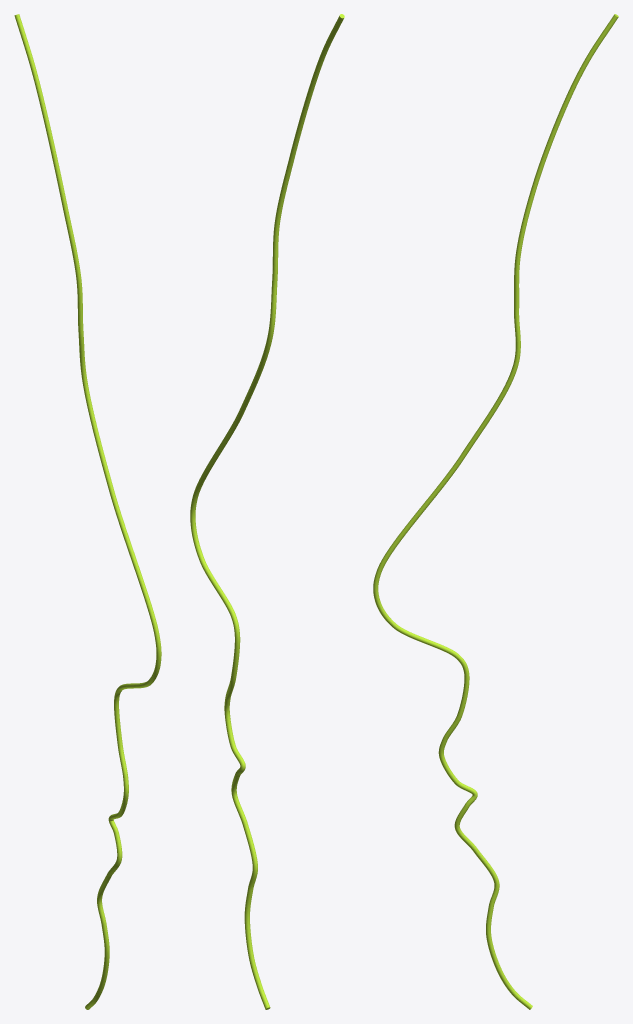
File: faces22 - lineprofile.glb
The picture shows the model from 3 angles, left to right: view 1: azimuth 30°, elevation 25°; view 2: azimuth 210°, elevation 25°; view 3: azimuth 270°, elevation 25°; orthographic projection. The views are drawn at different scales.
Parts seen in each view (by area): view 1: Tube; view 2: Tube; view 3: Tube.
Part boxes in pixels (<box>): Tube: <box>14,14,161,1009</box>; Tube: <box>190,14,344,1009</box>; Tube: <box>373,14,618,1009</box>.
Bounding box in the file's own units: 0.0585 × 1.66 × 0.377.
